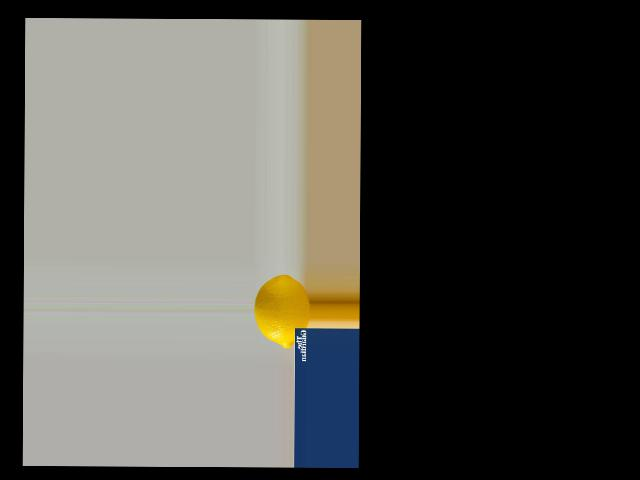lemon: (254, 274, 310, 346)
